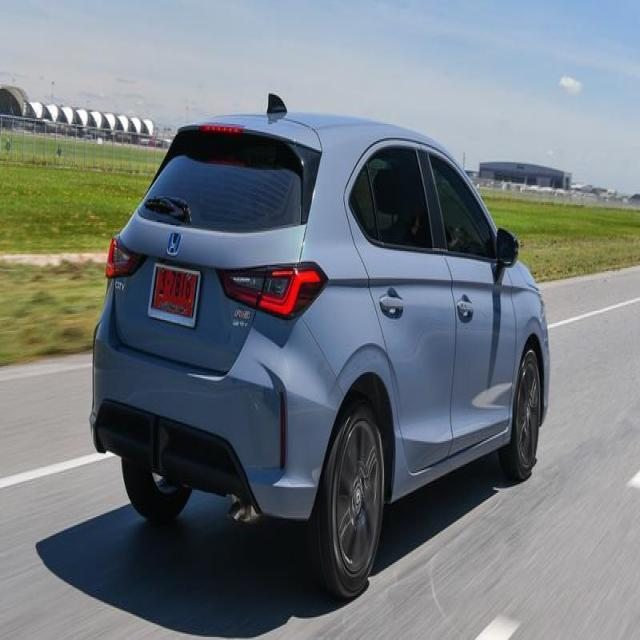Hatchback: (88, 96, 552, 603)
